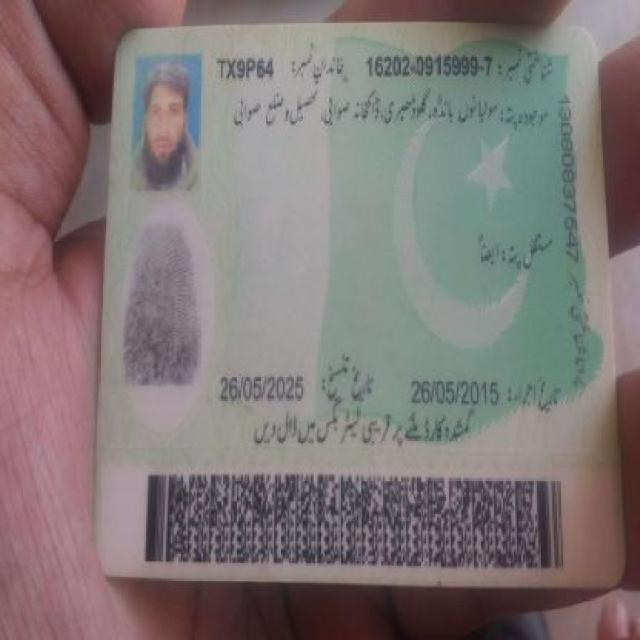Back: (100, 25, 611, 589)
